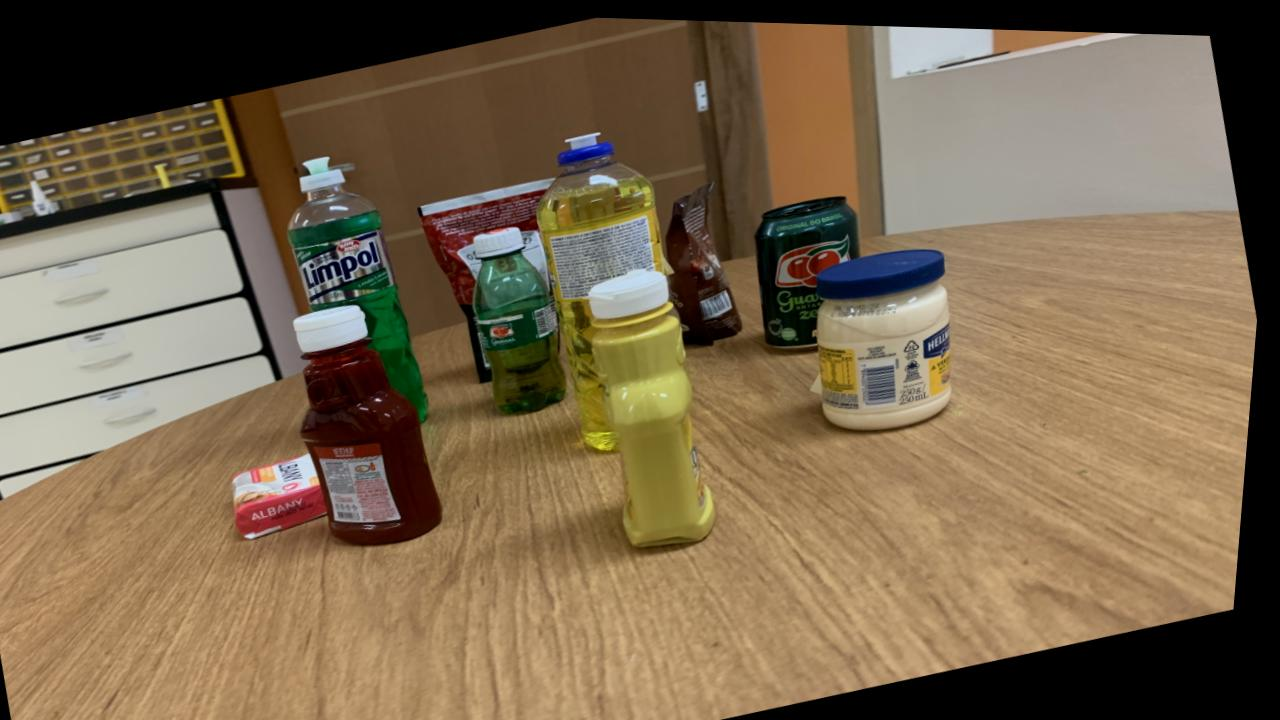Coffee-Pantry_Items: (668, 178, 748, 340)
Detergent-Cleanup_Items: (540, 129, 671, 447), (291, 154, 436, 417)
Guarana-Drinks: (476, 223, 574, 411)
Guarana_Can-Drinks: (759, 191, 864, 344)
Ketchup-Pantry_Items: (299, 302, 451, 542)
Mayonnaise-Pantry_Items: (820, 243, 958, 425)
Mustard-Pantry_Items: (594, 264, 724, 543)
Soap-Cleanup_Items: (240, 452, 334, 538)
Tomato_Sauce-Pantry_Items: (422, 174, 558, 378)
